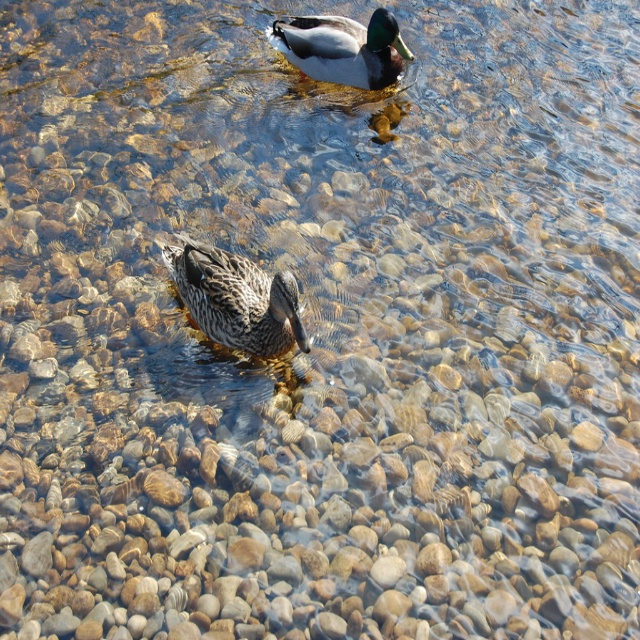Duck: (163, 244, 315, 369), (270, 0, 420, 88)
